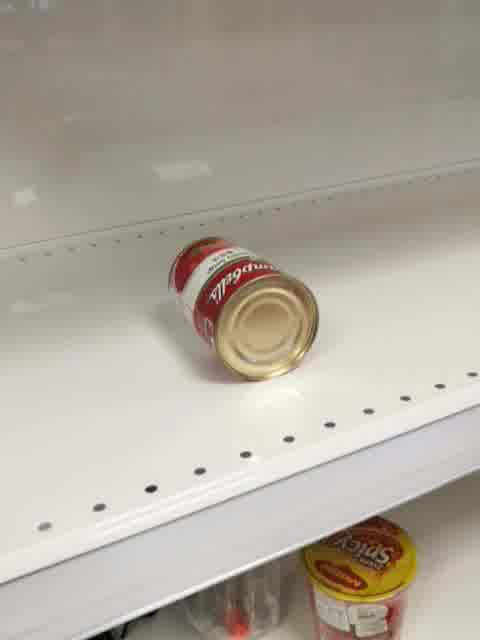tomatosoup: (164, 234, 320, 387)
